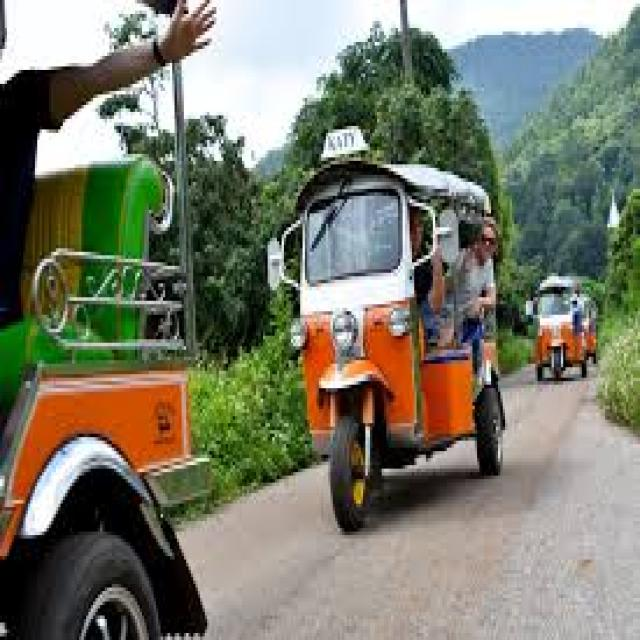tuktuk: (235, 80, 515, 561)
